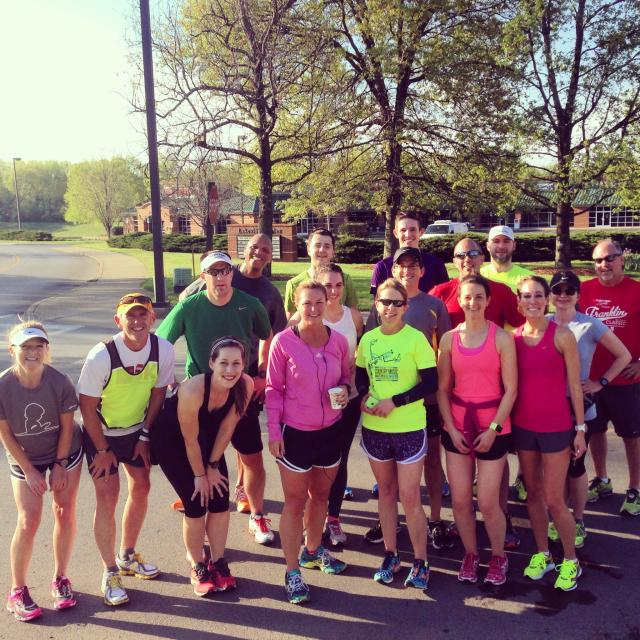body: (31, 463, 639, 640), (151, 249, 275, 564), (420, 234, 540, 552), (169, 230, 290, 516), (71, 291, 178, 609), (260, 276, 357, 610), (360, 244, 458, 553), (263, 278, 353, 606), (148, 332, 258, 600), (350, 274, 441, 594), (433, 273, 522, 589), (0, 316, 89, 626), (507, 275, 588, 594), (544, 270, 633, 550), (284, 261, 370, 549), (572, 239, 640, 519), (367, 208, 452, 300), (284, 226, 358, 322), (479, 225, 538, 332)
